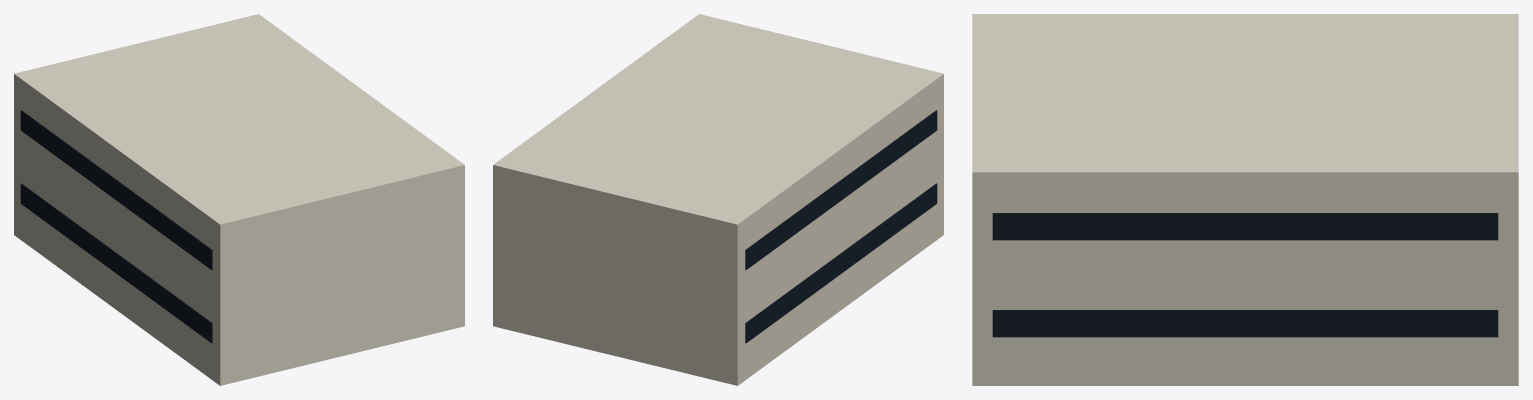
File: pax100_shell.obj
3 renders of one model, left to right at view 1: azimuth 30°, elevation 25°; view 2: azimuth 150°, elevation 25°; view 3: azimuth 270°, elevation 25°, orthographic. The views are drawn at different scales.
Parts seen in each view (by area): view 1: pax100_shell; view 2: pax100_shell; view 3: pax100_shell.
Part boxes in pixels (<box>): pax100_shell: <box>14,14,464,385</box>; pax100_shell: <box>493,14,943,385</box>; pax100_shell: <box>972,14,1518,385</box>.
Bounding box in the file's own units: 7.05 × 4.41 × 10.22.
